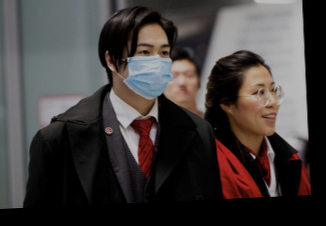with_mask: (121, 41, 174, 100)
without_mask: (234, 79, 282, 137), (165, 58, 200, 104)
